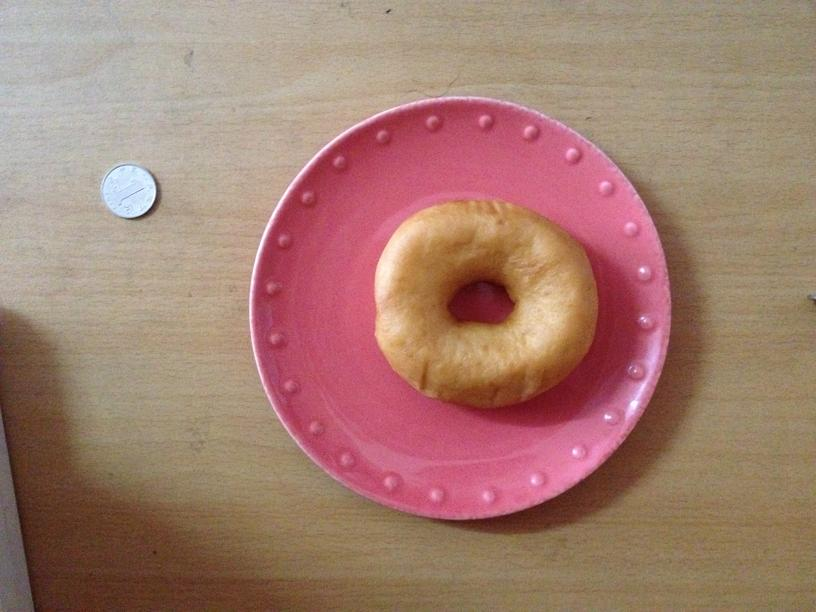coin: (100, 164, 156, 218)
doughnut: (370, 204, 597, 401)
